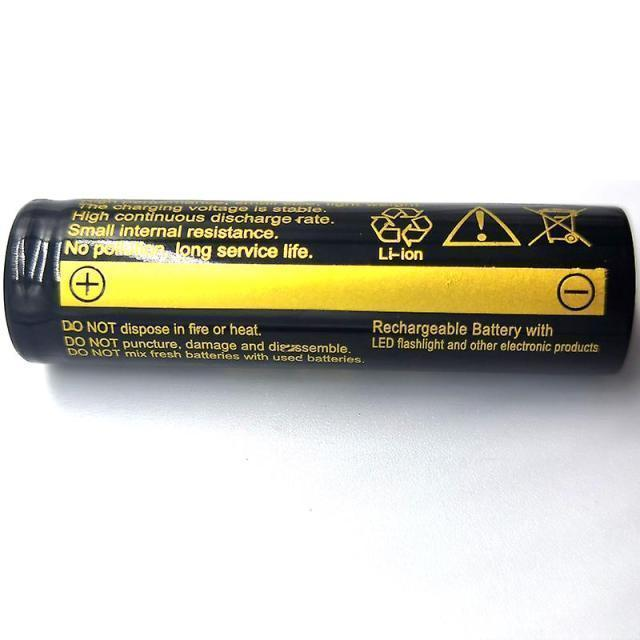AA: (1, 197, 639, 380)
